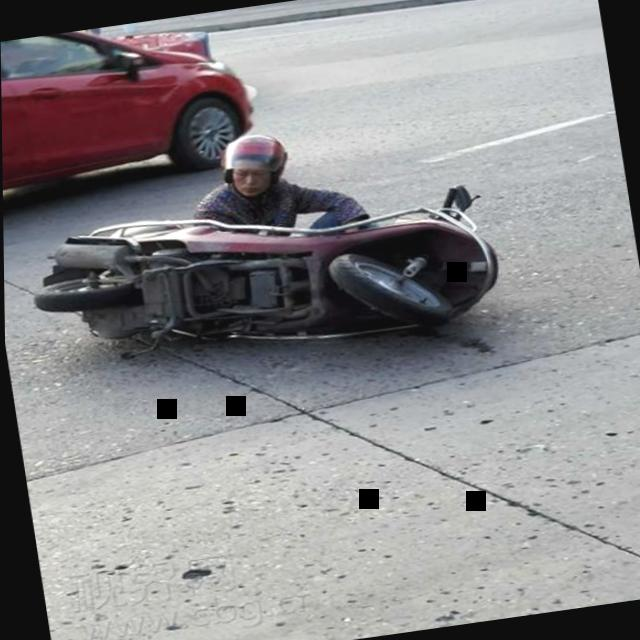Fall-Detected: (174, 106, 379, 248)
